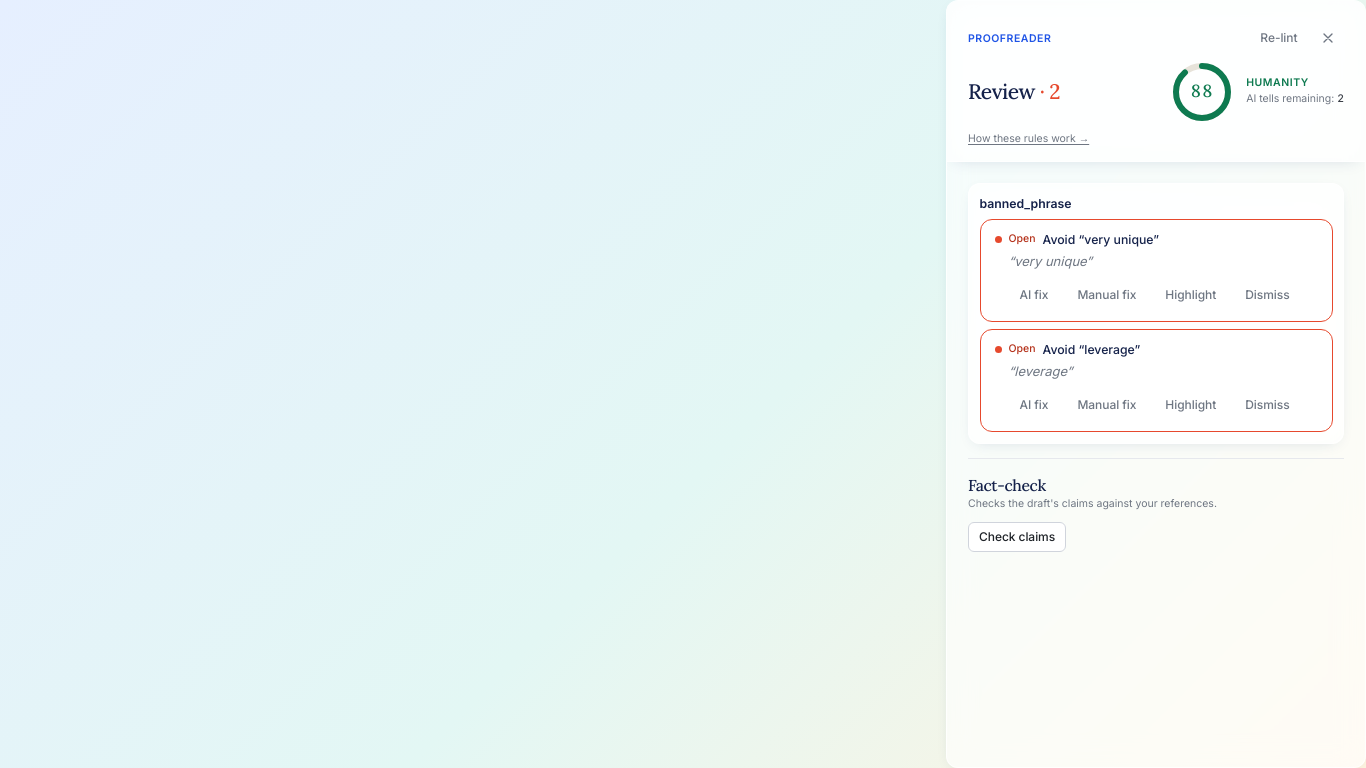
it: LintPanel on the shared rail › DOES improve the Humanity Score once a fix is actually applied, and unwinds on Undo
Expected: the text "Avoid “very unique”" is shown, [1042, 231, 1159, 248]
Expected: the text "88" is shown, [1190, 79, 1213, 102]
Apply a manual fix (no model call, no preview) → one finding resolved.
Click the button "Manual fix" below "Avoid “very unique”".
click(1107, 295)  # box [1066, 280, 1147, 311]
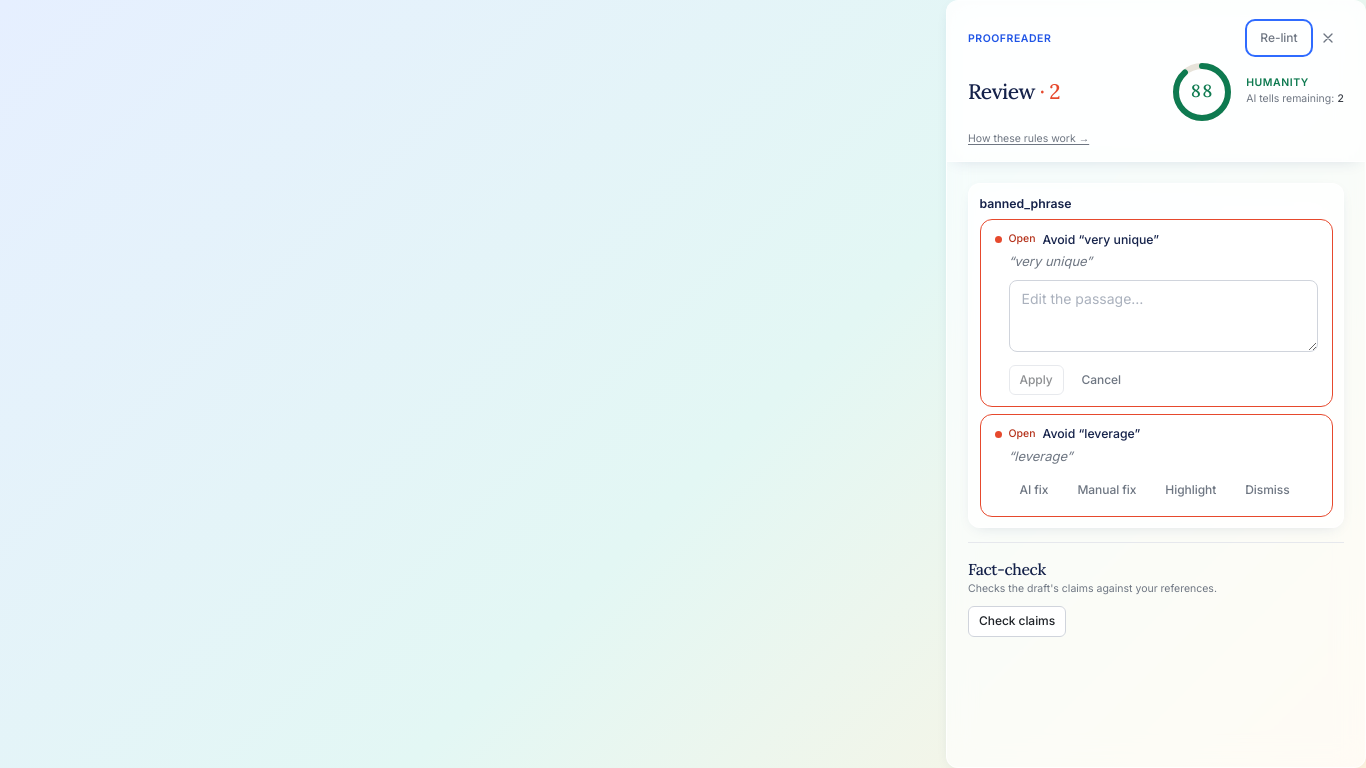
Type "unusual" into the text box.
click(1163, 316); type("unusual")  # box [1008, 280, 1318, 352]
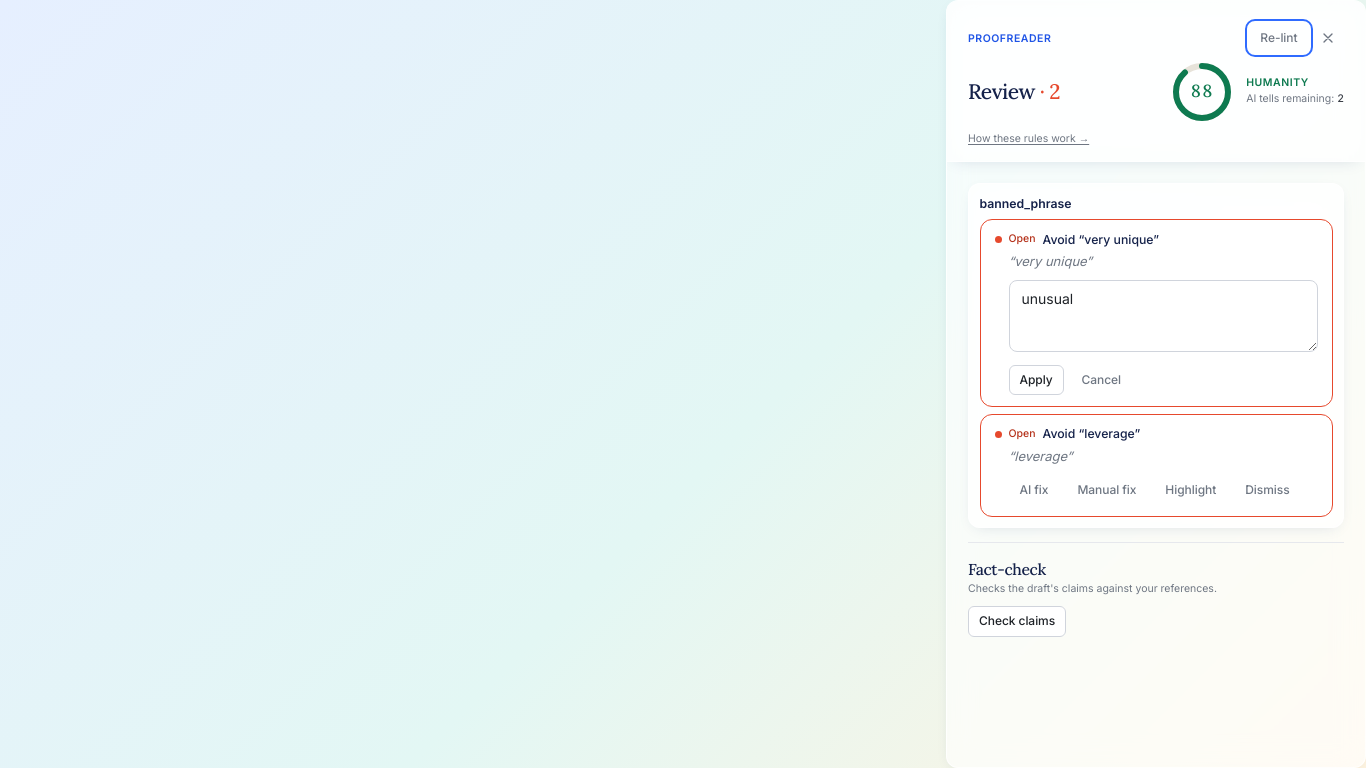
Click the button "Apply".
click(1036, 380)  # box [1008, 365, 1064, 395]
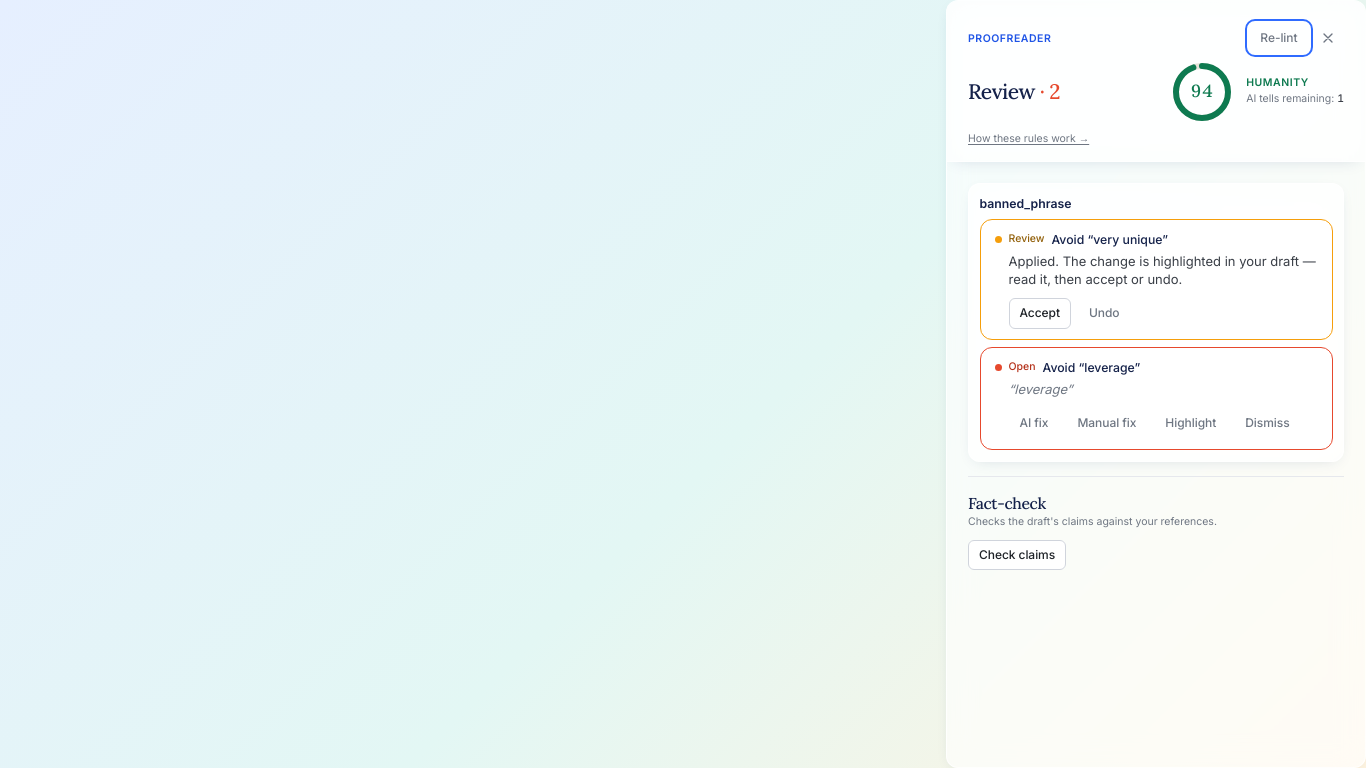
Result: the text "94" is shown at [1190, 79, 1213, 102]
Undo restores the flagged text — the score must go back.
Click the button "Undo".
click(1104, 313)  # box [1078, 298, 1130, 328]
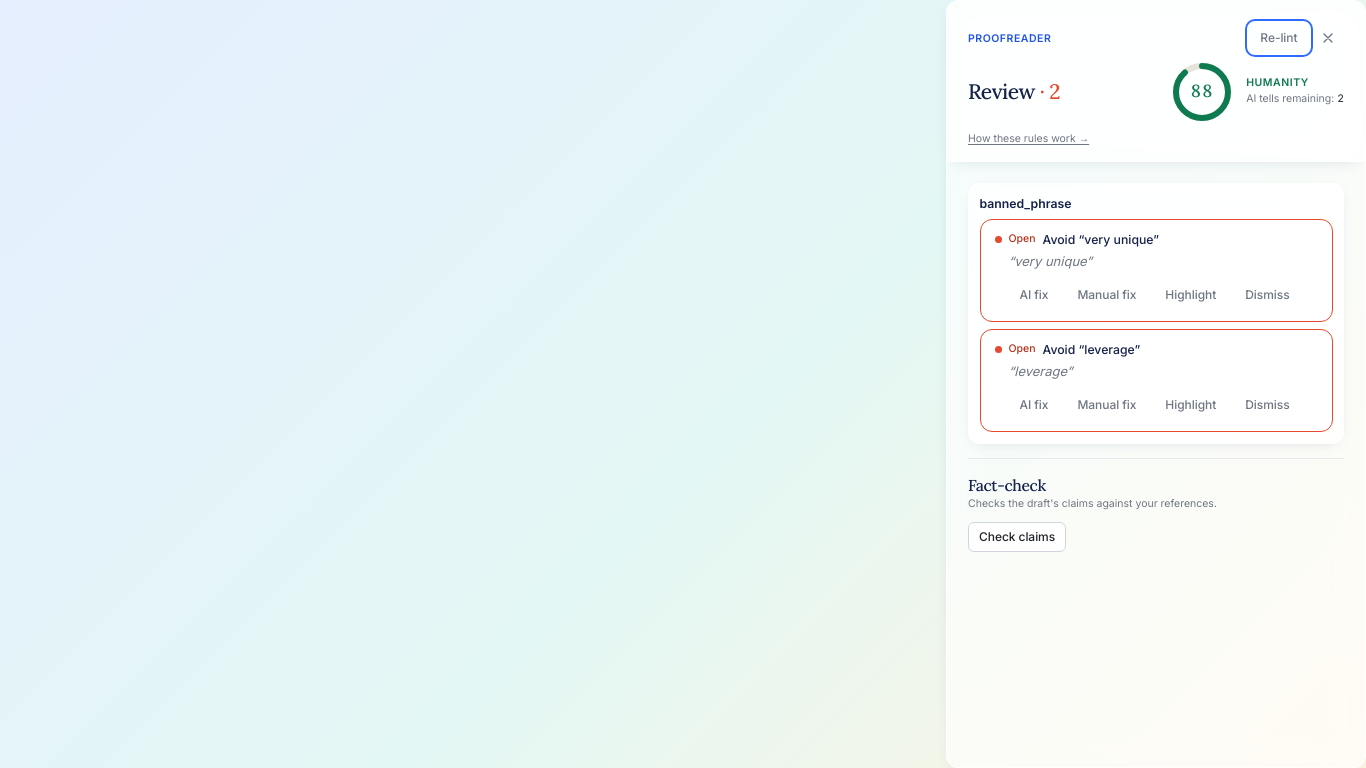
Result: the text "88" is shown at [1190, 79, 1213, 102]
